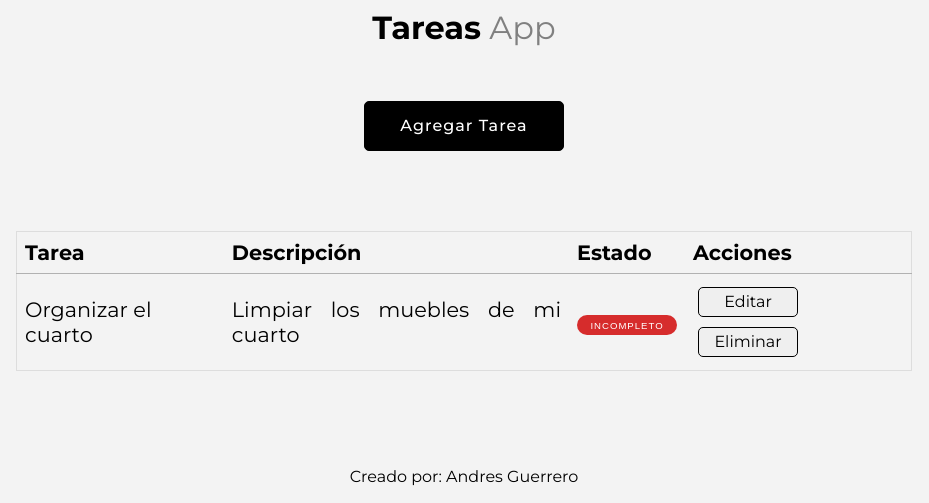
Test case: <TaskForm /> › <TaskForm /> - Verificar la eliminación de una tarea
The width and height of the screenshot is (929, 503).
Click the button with test id "boton-eliminar". click: (748, 342)
box: [698,327,798,357]
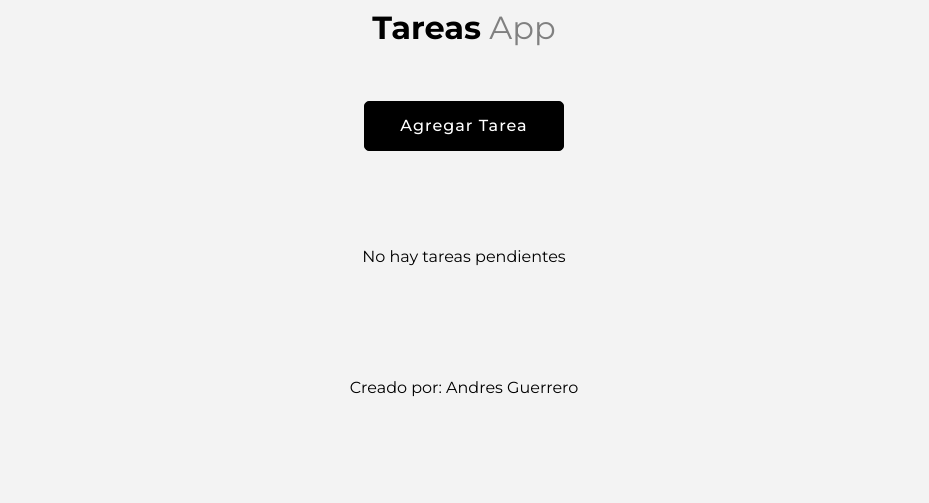
Expected: the table with test id "tabla-tareas" is gone
Expected: the cell with test id "td-titulo" is gone
Expected: the cell with test id "td-descripcion" is gone
